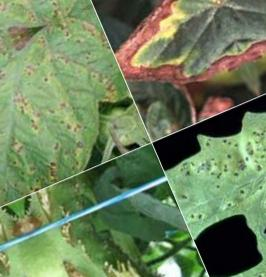Tomato leaf bacterial spot: (0, 9, 140, 196), (98, 0, 255, 131), (157, 106, 266, 259)
